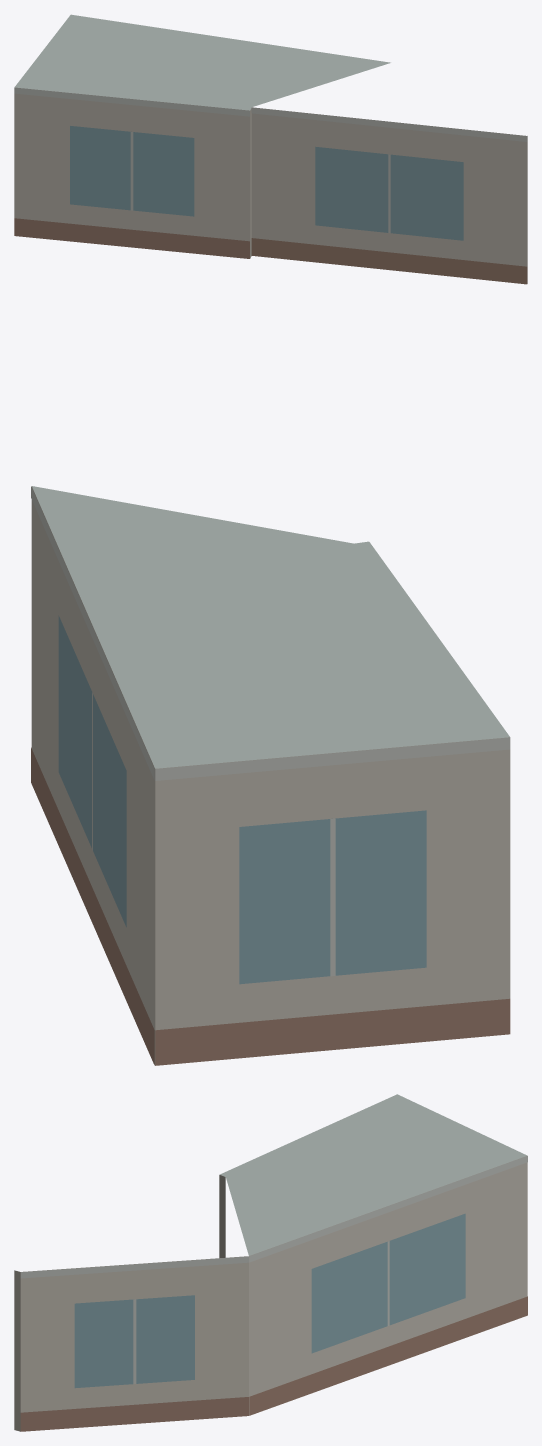
Rendered from survey-upis-33030441.glb.
The picture shows the model from 3 angles, top to bottom: view 1: azimuth 30°, elevation 25°; view 2: azimuth 150°, elevation 25°; view 3: azimuth 270°, elevation 25°; orthographic projection. The views are drawn at different scales.
Parts seen in each view (by area): view 1: survey-upis-33030441.tmp; view 2: survey-upis-33030441.tmp; view 3: survey-upis-33030441.tmp.
Boxes of the visible parts, x1=… form: survey-upis-33030441.tmp: x1=14, y1=14, x2=527, y2=284; survey-upis-33030441.tmp: x1=31, y1=486, x2=510, y2=1065; survey-upis-33030441.tmp: x1=14, y1=1094, x2=527, y2=1431.
Bounding box in the file's own units: 7.29 × 3.05 × 8.9.
